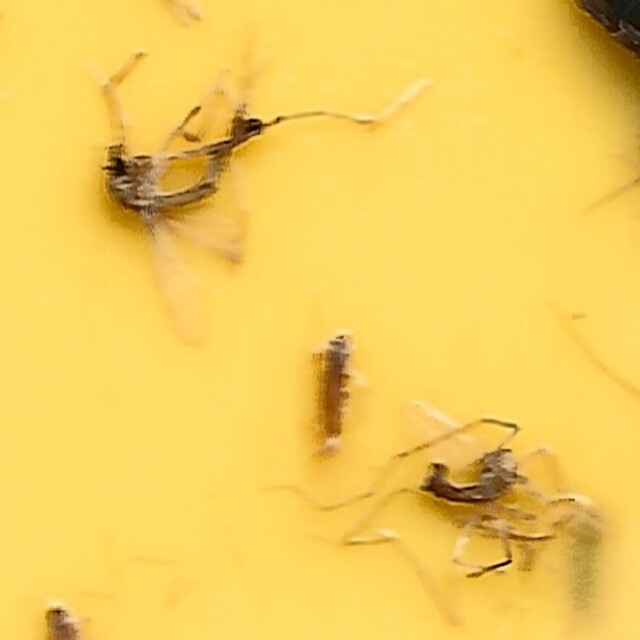Nematocera: (107, 127, 261, 344), (413, 430, 533, 513)
Trichoptera: (313, 322, 356, 457)
